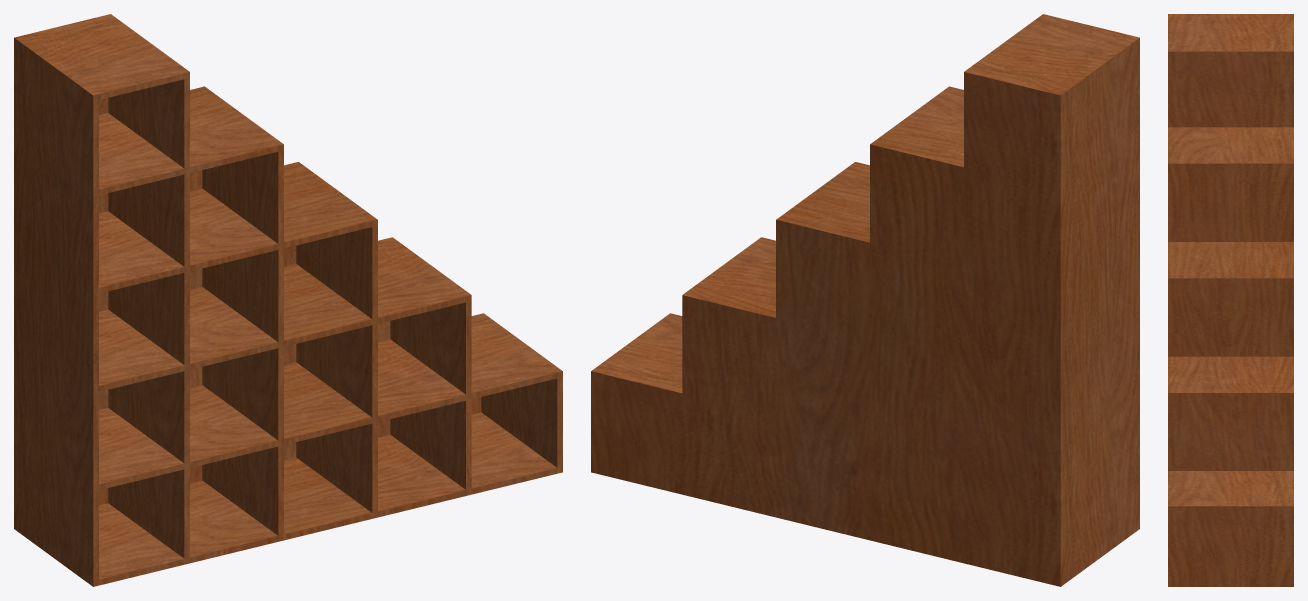
Rendered from bookshelf.glb.
3 renders of one model, left to right at view 1: azimuth 30°, elevation 25°; view 2: azimuth 150°, elevation 25°; view 3: azimuth 270°, elevation 25°, orthographic. The views are drawn at different scales.
Visible parts, largest first — view 1: Material2 (×10); view 2: Material2; view 3: Material2.
Boxes of the visible parts, x1,y1,x2,y2 form: Material2 (×10): (14,14,562,586); Material2: (591,14,1139,586); Material2: (1168,14,1293,586).
Bounding box in the file's own units: 98.43 × 98.43 × 28.74.
Materials: 1 (1 with a texture image).
